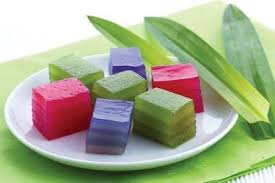kanomchan: (26, 77, 96, 144), (133, 86, 201, 151), (43, 52, 110, 107), (86, 91, 137, 160), (150, 61, 207, 121)
